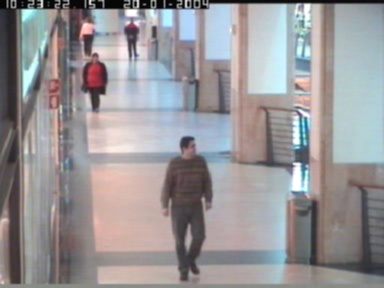person: (160, 136, 212, 279), (82, 51, 107, 113), (78, 17, 99, 57), (123, 18, 138, 61), (149, 9, 159, 39)
